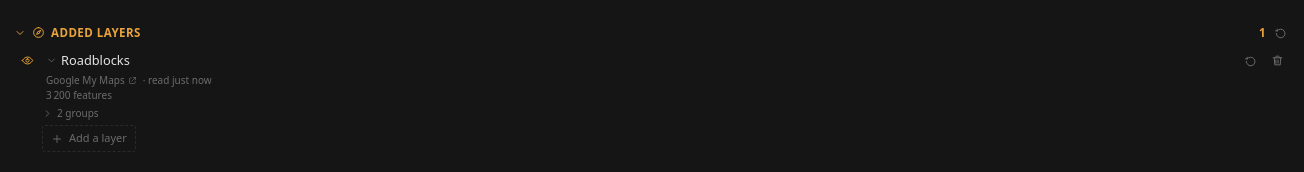
it: a row › folds the layer just added when asked, and keeps it folded
The width and height of the screenshot is (1304, 172).
Click the button with class "fold" at point(95, 60), box [46,49,1236,72]
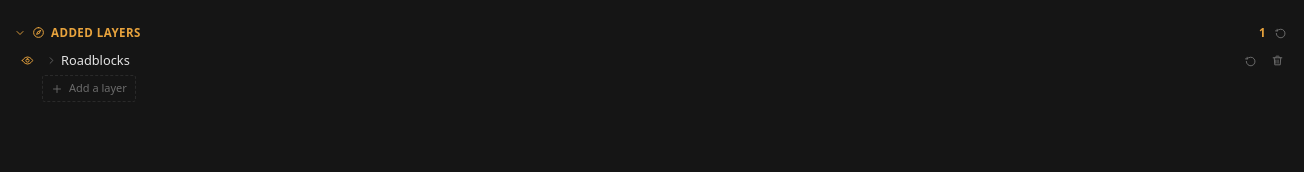
Expected: the button with class "fold" is collapsed, [46,49,1236,72]
